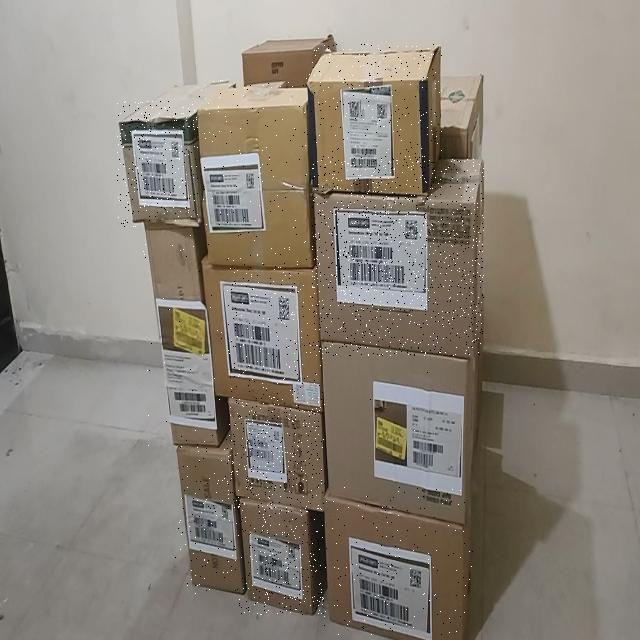BoxFace: (312, 156, 484, 356), (321, 338, 476, 524), (323, 486, 473, 638), (196, 80, 314, 269), (306, 44, 442, 196), (201, 254, 323, 410), (143, 221, 227, 446), (175, 433, 245, 595), (227, 396, 325, 511), (238, 496, 325, 615), (117, 101, 198, 228)
